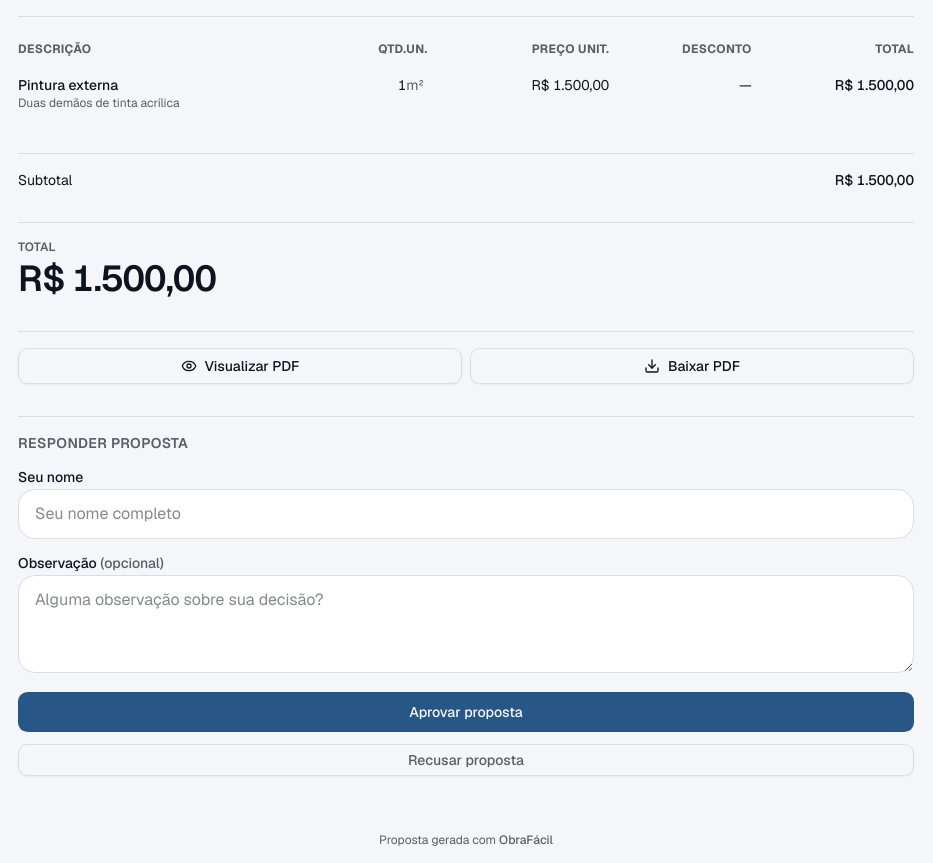
Test: ProposalView › disables both buttons while a decision request is in flight (double-click prevention)
(page scrolled)
Type "Maria Cliente" into the field labelled "Seu nome". click: {"x": 466, "y": 514}
box: [18,489,914,539]
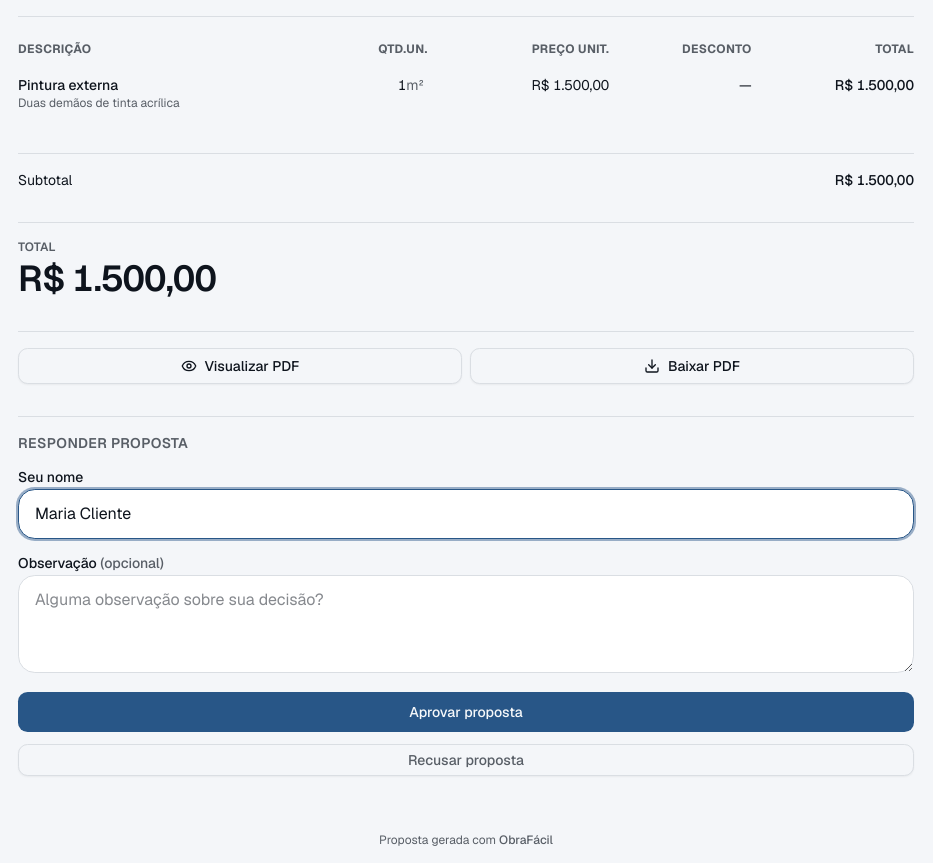
Click the button "Aprovar proposta". click: {"x": 466, "y": 712}
box: [18,692,914,732]
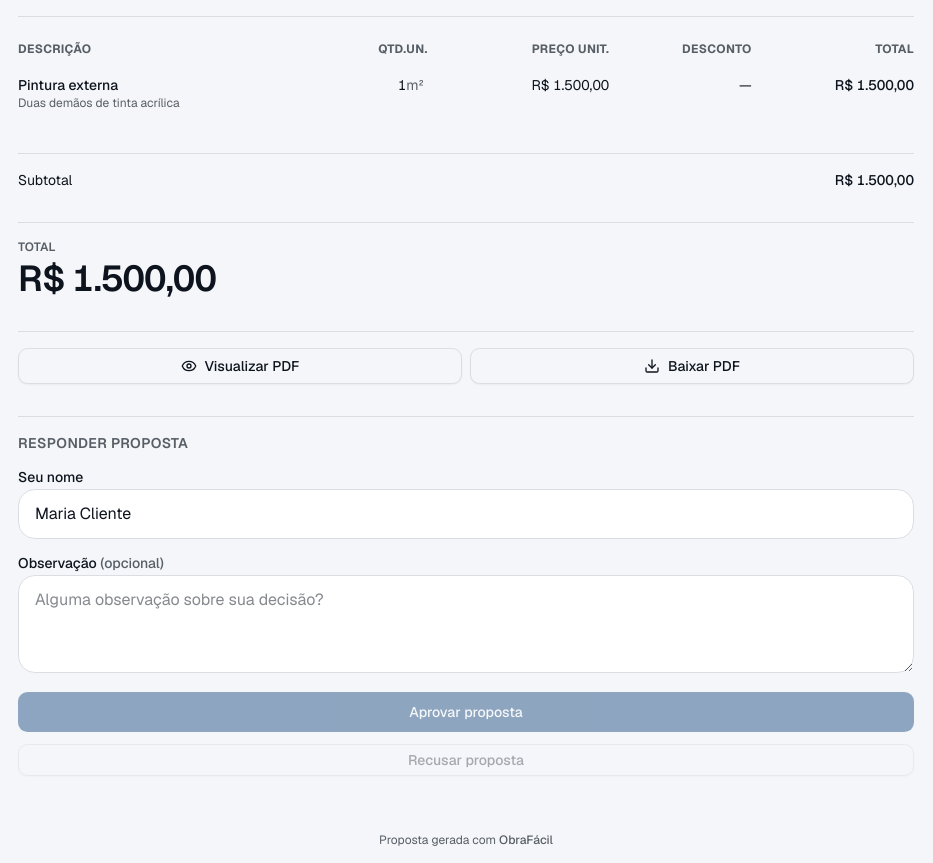
Expected: the button "Aprovar proposta" is disabled, [18,692,914,732]
Expected: the button "Recusar proposta" is disabled, [18,744,914,776]
